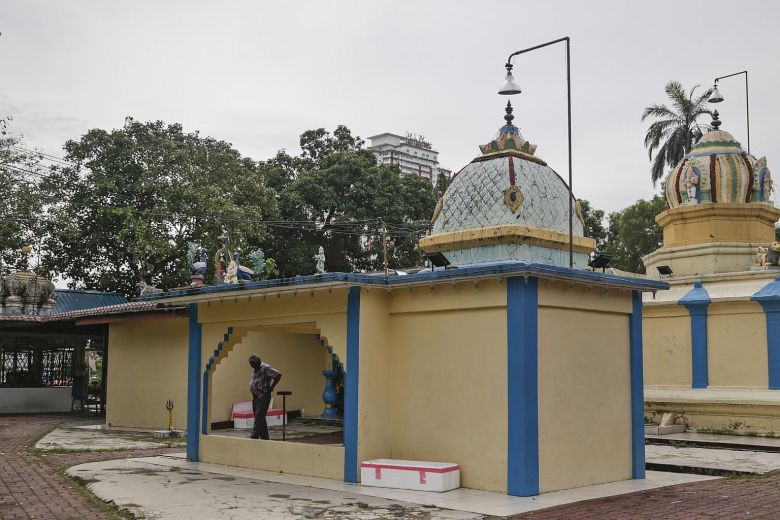Hindu Temple: (394, 114, 611, 454)
